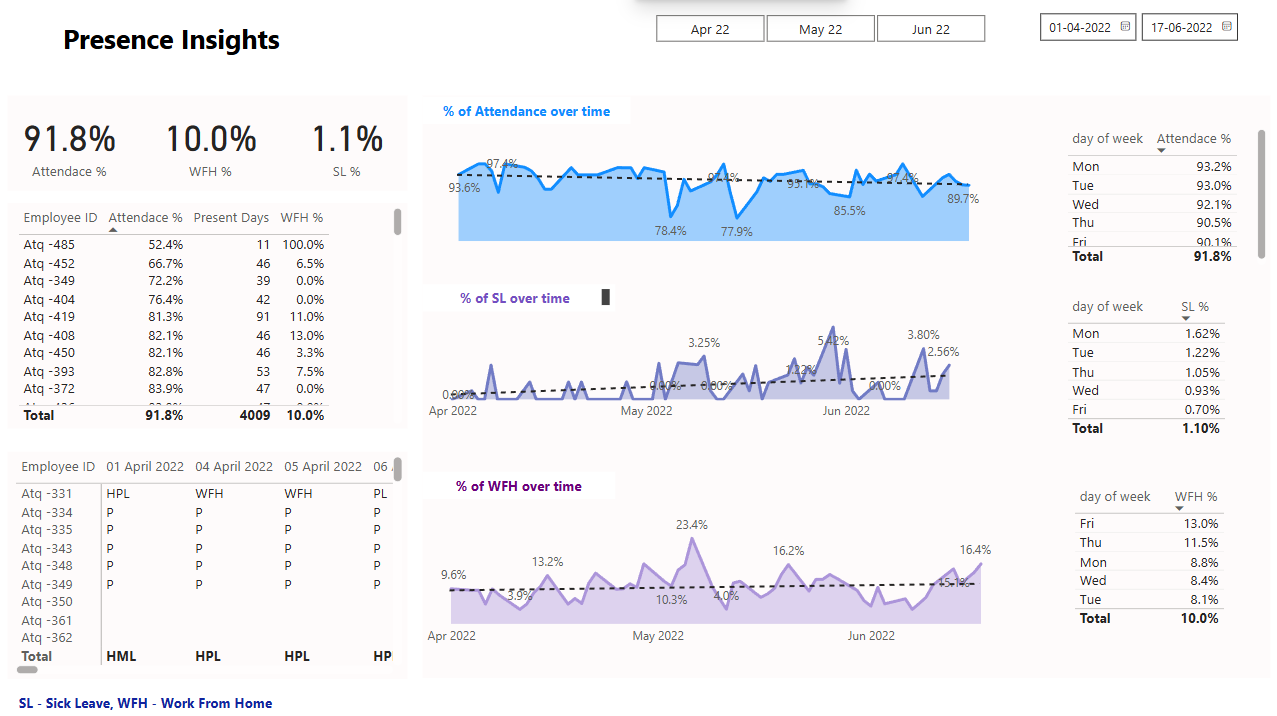

What the dashboard file says about the page in this screenshot:
{"tool":"powerbi","page":{"name":"Presence Insights","canvas":[1280,720],"ordinal":0},"visuals":[{"type":"textbox","box":[7.8,205.6,399.9,225.5],"z":0},{"type":"textbox","box":[7.8,453.3,399.8,227.6],"z":1000},{"type":"textbox","box":[422.3,97.9,848.1,582.3],"z":2000},{"type":"textbox","box":[7.8,98,399.9,95.4],"z":3000},{"type":"tableEx","fields":{"Values":["Final Data.Employee ID","Measures (2).Attendace %","Measures (2).Present Days","Measures (2).WFH %"]},"box":[12.6,205.2,394.9,225.7],"z":4000},{"type":"slicer","fields":{"Values":["Final Data.Date"]},"box":[1027.3,5.2,252.7,46.3],"z":5000},{"type":"slicer","fields":{"Values":["Final Data.MMM YY"]},"box":[630.4,10.5,379.5,35.8],"z":6000},{"type":"areaChart","fields":{"Category":["Final Data.MMM YY","Final Data.Date"],"Y":["Measures (2).WFH %"]},"box":[420.7,502.3,589,153.5],"z":7000},{"type":"areaChart","fields":{"Category":["Final Data.WeekNo","Final Data.Date"],"Y":["Measures (2).Attendace %"]},"box":[444.1,144.9,540.4,103.2],"z":8000},{"type":"card","fields":{"Values":["Measures (2).Attendace %"]},"box":[7.8,98,124,96.3],"z":9000},{"type":"card","fields":{"Values":["Measures (2).WFH %"]},"box":[141.4,98,138.8,96.3],"z":10000},{"type":"areaChart","fields":{"Category":["Final Data.MMM YY","Final Data.Date"],"Y":["Measures (2).SL %"]},"box":[422.5,307.1,556,124],"z":11000},{"type":"card","fields":{"Values":["Measures (2).SL %"]},"box":[286.3,97.2,121.4,96.3],"z":13000},{"type":"textbox","box":[11.2,0,312.2,74.6],"z":14000},{"type":"textbox","box":[422.9,98.3,207.7,27.4],"z":15000},{"type":"textbox","box":[422.5,286.3,192.6,26.9],"z":16000},{"type":"textbox","box":[422.1,473.7,192.6,27.2],"z":17000},{"type":"pivotTable","fields":{"Rows":["Final Data.Employee ID"],"Columns":["Final Data.Date"],"Values":["Min(Final Data.Value)"]},"box":[11.7,453.3,395.9,227.6],"z":18000},{"type":"textbox","box":[13.6,691.6,289.8,28.2],"z":19000},{"type":"tableEx","fields":{"Values":["Final Data.day of week","Measures (2).Attendace %"]},"box":[1060.9,125.8,209.9,145.7],"z":20000},{"type":"tableEx","fields":{"Values":["Final Data.day of week","Measures (2).SL %"]},"box":[1060.9,294.1,191.7,167.4],"z":21000},{"type":"tableEx","fields":{"Values":["Final Data.day of week","Measures (2).WFH %"]},"box":[1068.7,483.2,170,167.4],"z":22000}]}

Visuals, with their boxes in screenshot pixels (x1, y1, x2, y2), scaled from the page's 1280x720 canvas onto the 1277x716 screenshot:
textbox: <box>8,204,407,429</box>
textbox: <box>8,451,407,677</box>
textbox: <box>421,97,1267,676</box>
textbox: <box>8,97,407,192</box>
tableEx - Final Data.Employee ID x Measures (2).Attendace %: <box>13,204,407,429</box>
slicer - Final Data.Date: <box>1025,5,1276,51</box>
slicer - Final Data.MMM YY: <box>629,10,1008,46</box>
areaChart - Final Data.MMM YY x Final Data.Date: <box>420,500,1007,652</box>
areaChart - Final Data.WeekNo x Final Data.Date: <box>443,144,982,247</box>
card - Measures (2).Attendace %: <box>8,97,131,193</box>
card - Measures (2).WFH %: <box>141,97,280,193</box>
areaChart - Final Data.MMM YY x Final Data.Date: <box>422,305,976,429</box>
card - Measures (2).SL %: <box>286,97,407,192</box>
textbox: <box>11,0,323,74</box>
textbox: <box>422,98,629,125</box>
textbox: <box>422,285,614,311</box>
textbox: <box>421,471,613,498</box>
pivotTable - Final Data.Employee ID x Final Data.Date: <box>12,451,407,677</box>
textbox: <box>14,688,303,715</box>
tableEx - Final Data.day of week x Measures (2).Attendace %: <box>1058,125,1268,270</box>
tableEx - Final Data.day of week x Measures (2).SL %: <box>1058,292,1250,459</box>
tableEx - Final Data.day of week x Measures (2).WFH %: <box>1066,481,1236,647</box>
